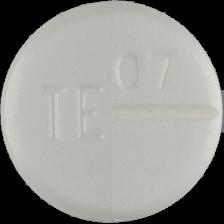0615-0446: (0, 0, 224, 224)
